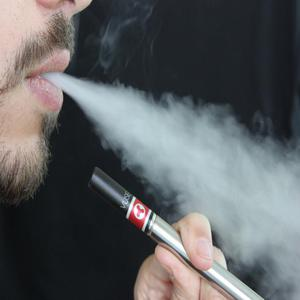cigarette: (79, 168, 265, 300)
